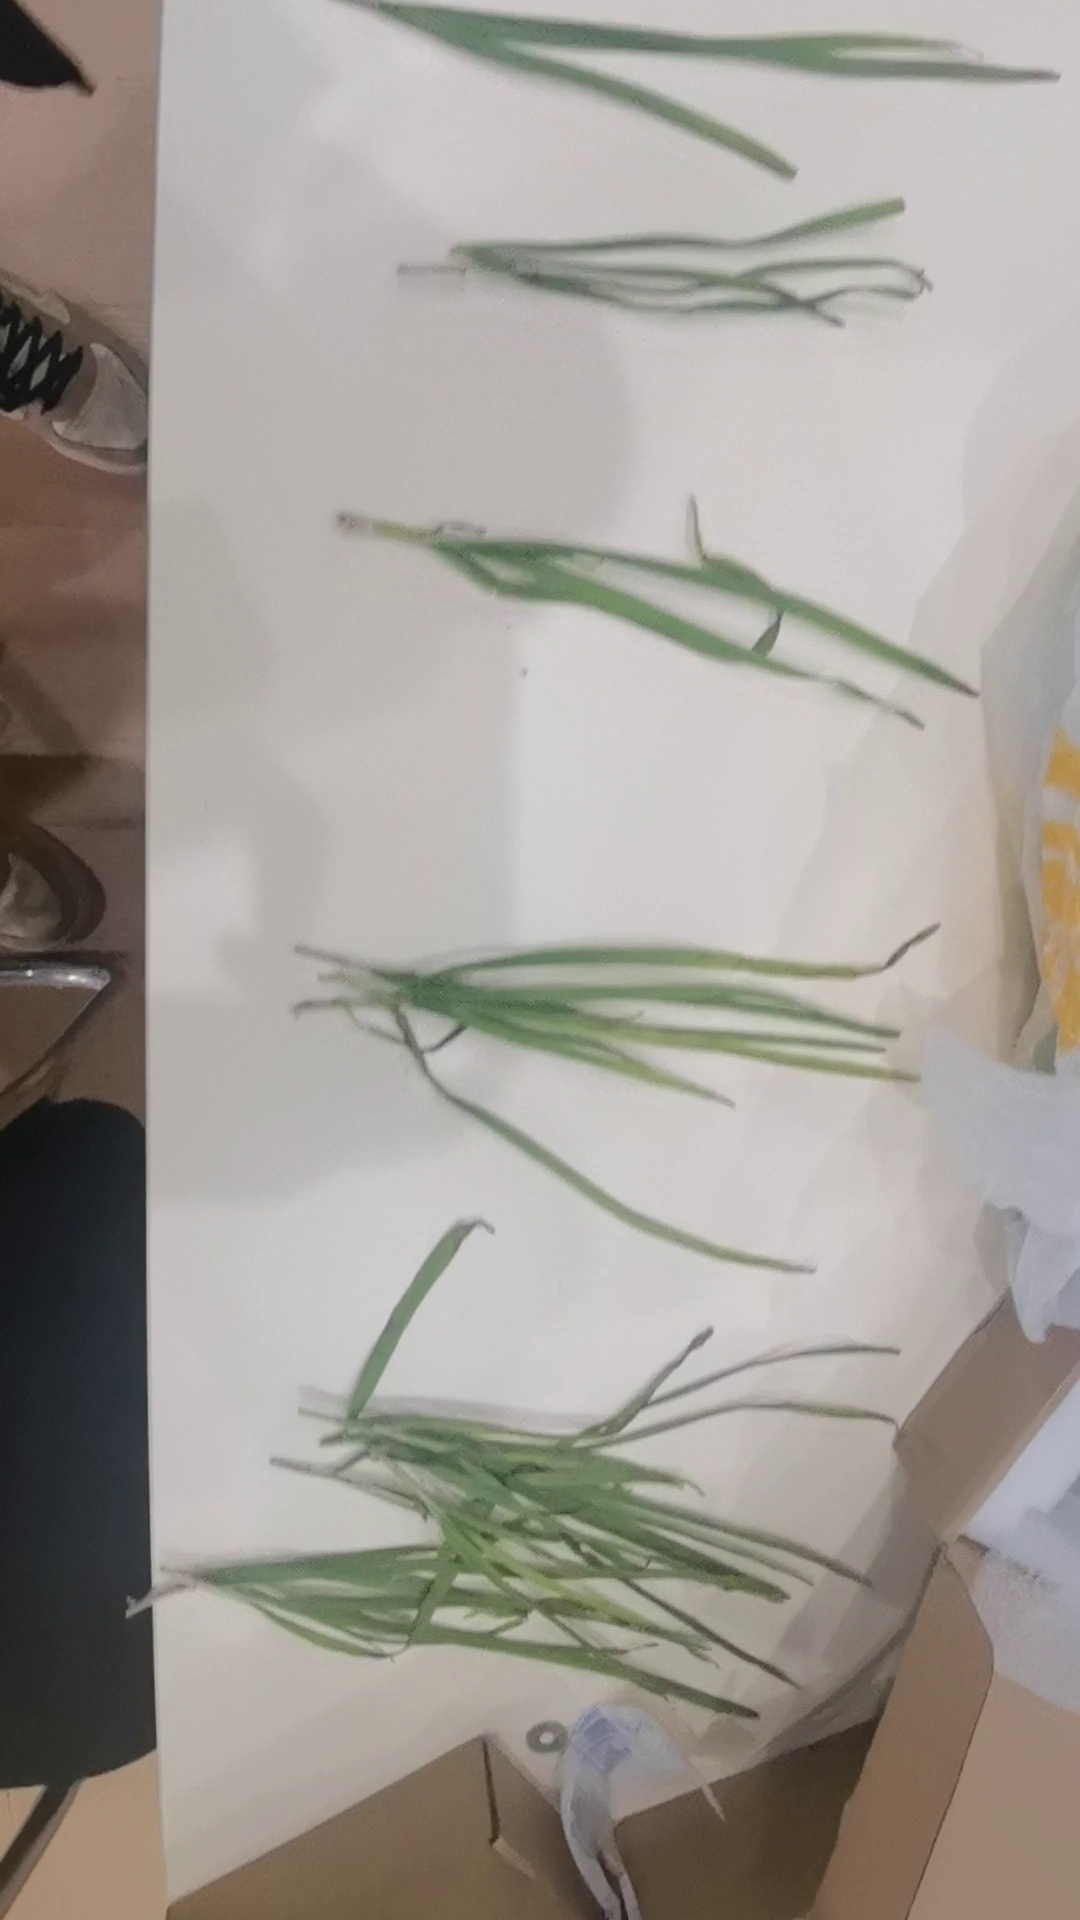chives: (146, 1304, 996, 1729), (258, 894, 1002, 1302), (314, 484, 1030, 741), (313, 7, 1079, 189), (389, 204, 996, 351)
